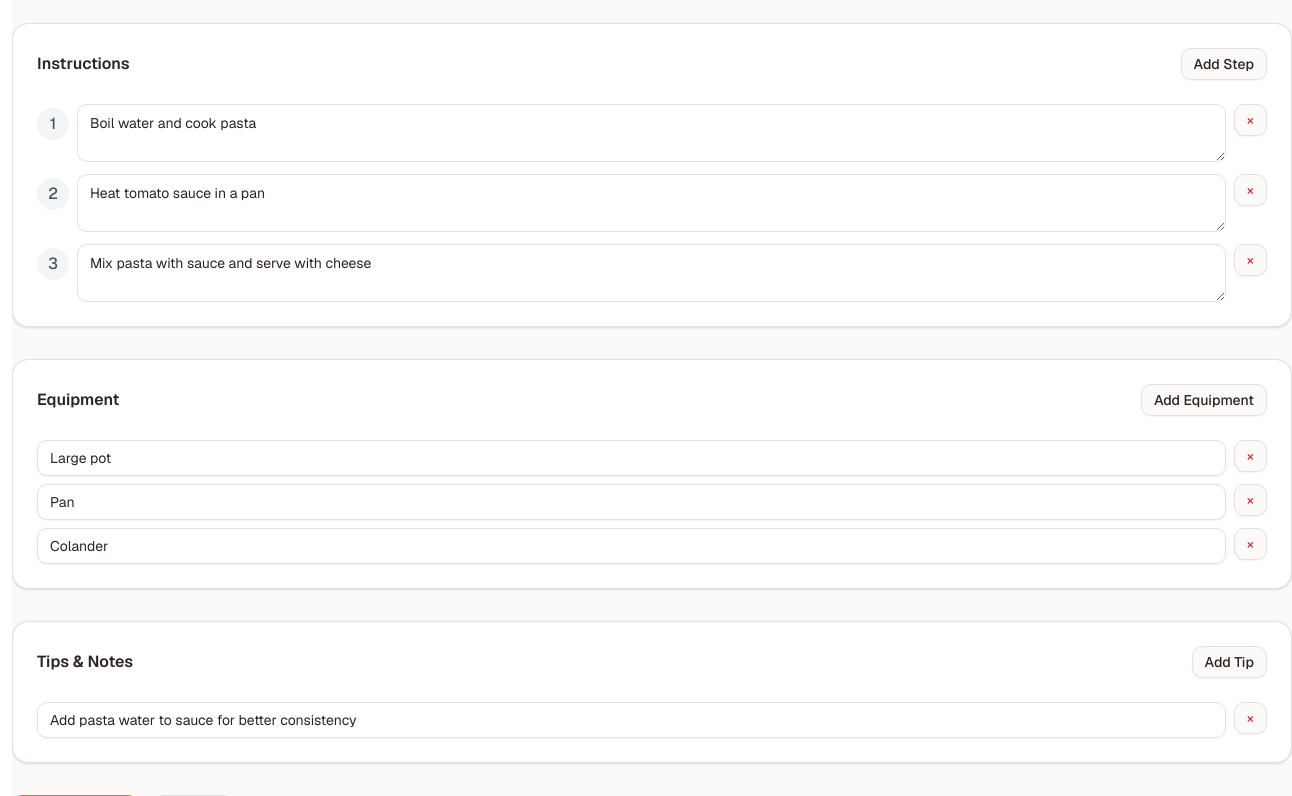
Scenario: RecipeForm › adds equipment item when add button clicked
(page scrolled)
Step 1. Click the button "Add Equipment" → (1204, 400), box x1=1141 y1=384 x2=1267 y2=416
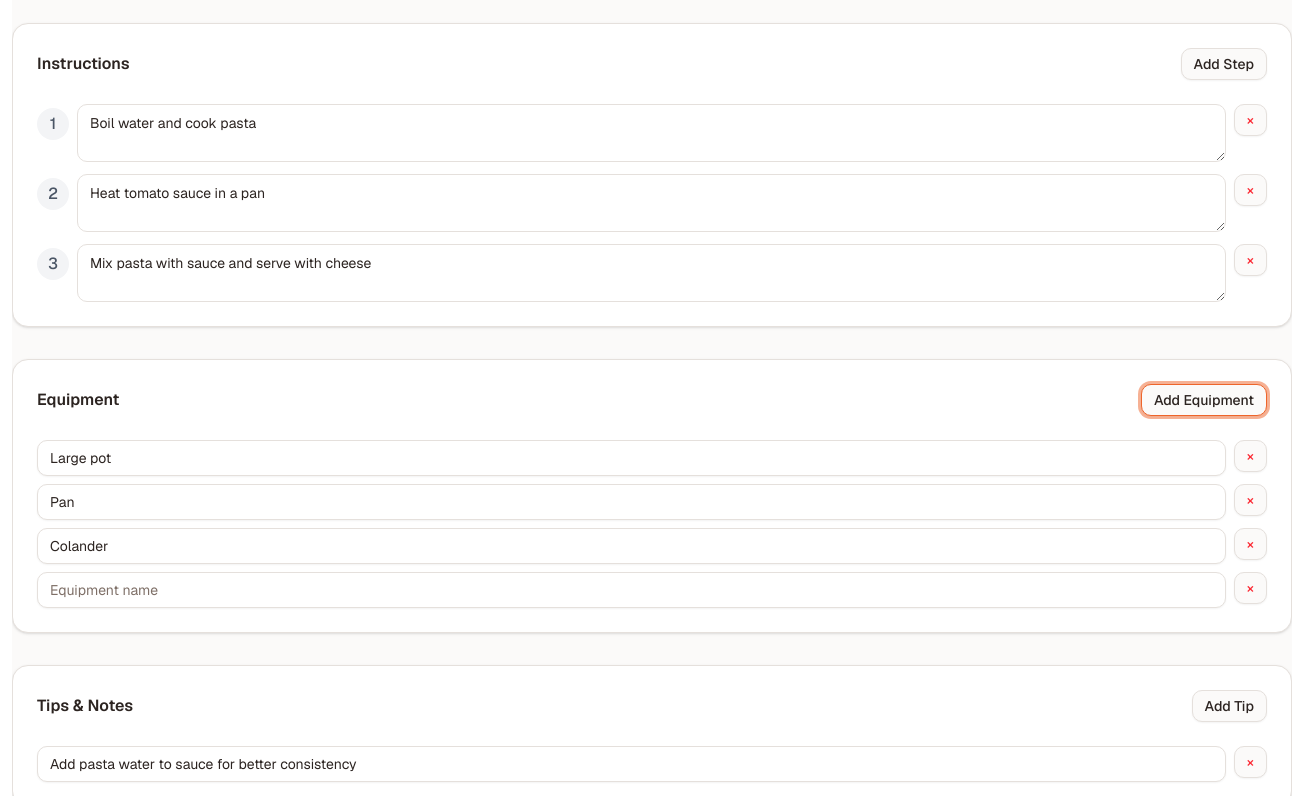
Expected: the number of fields with placeholder "Equipment name" is 4, x1=37 y1=440 x2=1226 y2=476; x1=37 y1=484 x2=1226 y2=520; x1=37 y1=528 x2=1226 y2=564; x1=37 y1=572 x2=1226 y2=608
